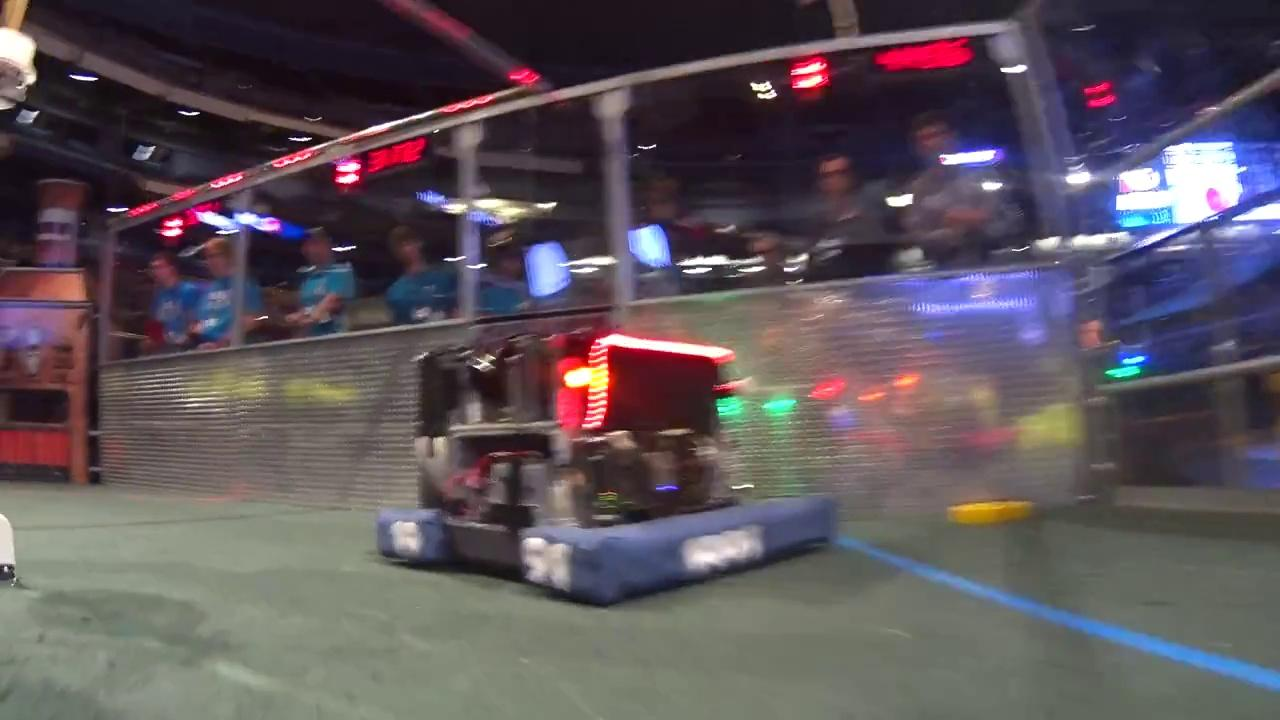robot: (369, 327, 846, 613)
